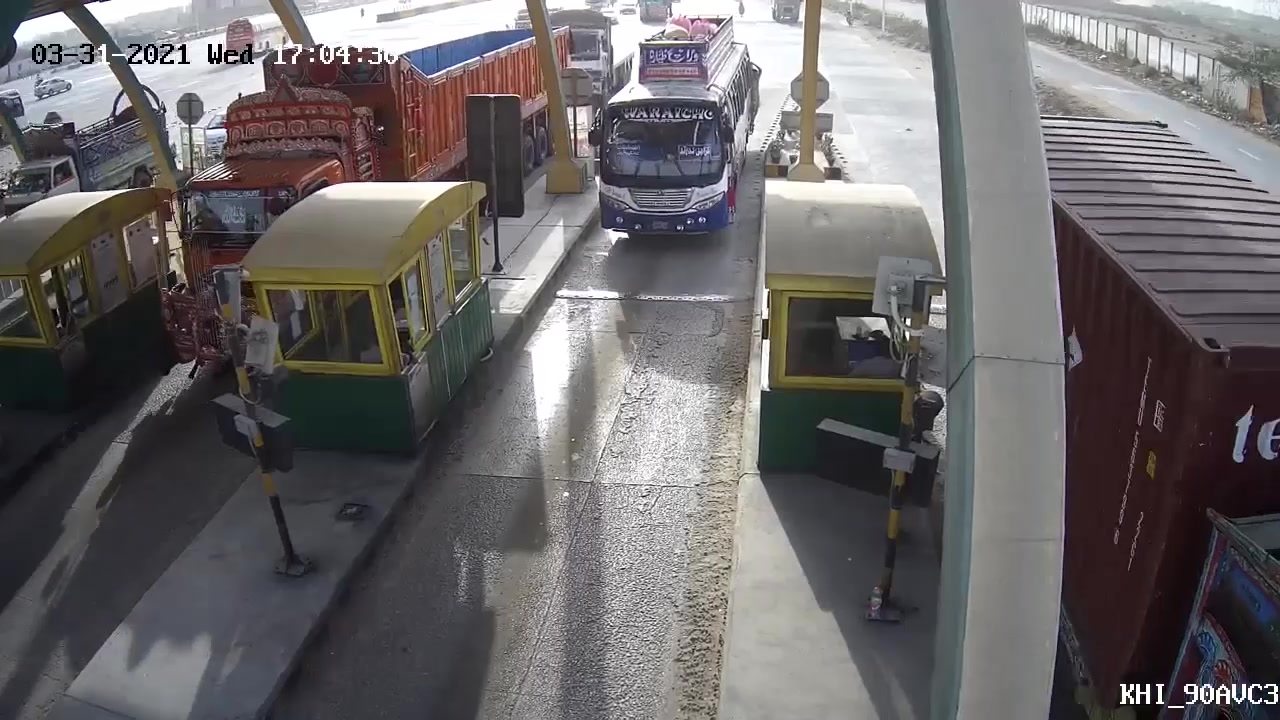F4: (573, 16, 768, 249)
